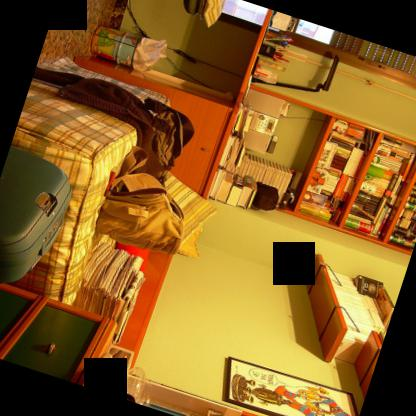backpack: (97, 145, 183, 256)
handbag: (95, 143, 185, 257)
suitcase: (0, 145, 70, 282)
